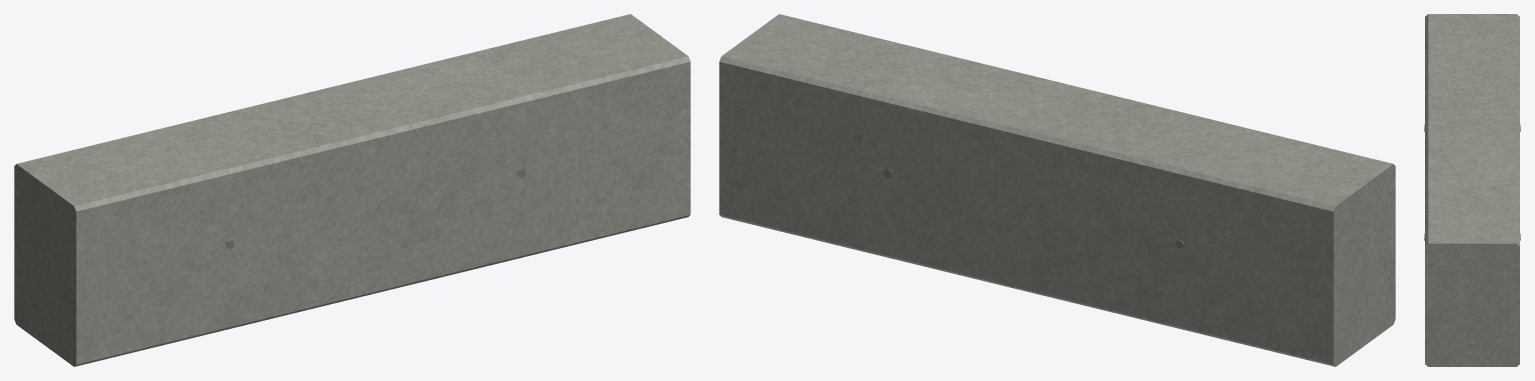
File: PZ_Beam_0350x0500_2m.glb
The picture shows the model from 3 angles, left to right: view 1: azimuth 30°, elevation 25°; view 2: azimuth 150°, elevation 25°; view 3: azimuth 270°, elevation 25°; orthographic projection. The views are drawn at different scales.
Visible parts, largest first — view 1: RENDER_PZ_Beam_0350x0500_2m__RENDER_Beam_Precast_Core__000; view 2: RENDER_PZ_Beam_0350x0500_2m__RENDER_Beam_Precast_Core__000; view 3: RENDER_PZ_Beam_0350x0500_2m__RENDER_Beam_Precast_Core__000.
Part boxes in pixels (x1,y1,x2,y2): RENDER_PZ_Beam_0350x0500_2m__RENDER_Beam_Precast_Core__000: (14, 14, 690, 366); RENDER_PZ_Beam_0350x0500_2m__RENDER_Beam_Precast_Core__000: (719, 14, 1395, 366); RENDER_PZ_Beam_0350x0500_2m__RENDER_Beam_Precast_Core__000: (1425, 14, 1519, 366).
Bounding box in the file's own units: 2 × 0.5 × 0.355.
Materials: 2 (2 with a texture image).
